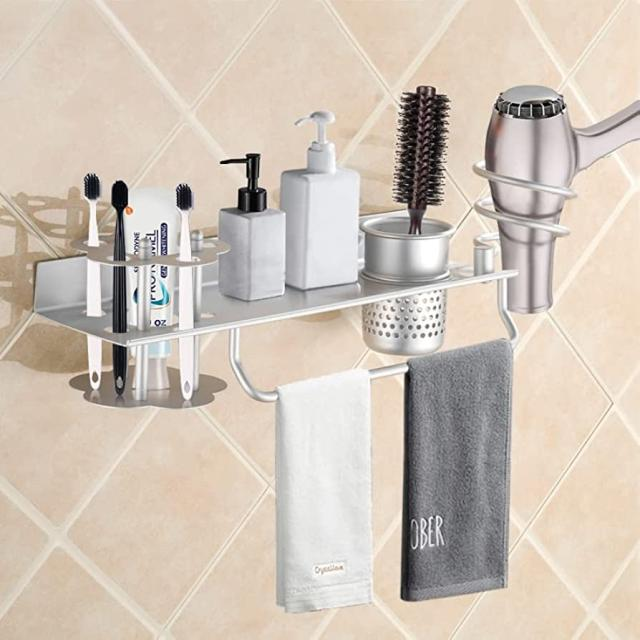dryer: (470, 73, 634, 325)
